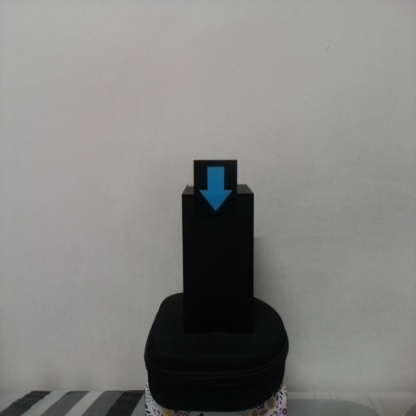id_2: (194, 160, 237, 218)
